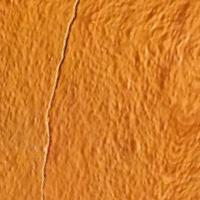crack: (30, 0, 82, 154)
